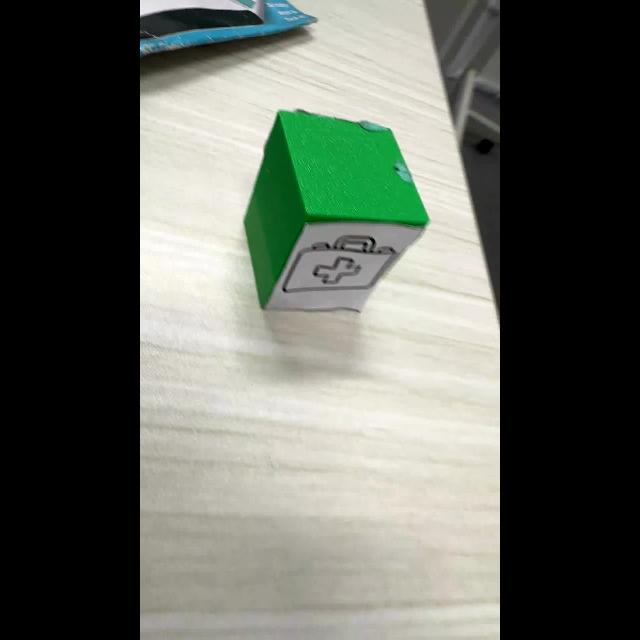Medkit: (281, 236, 392, 297)
